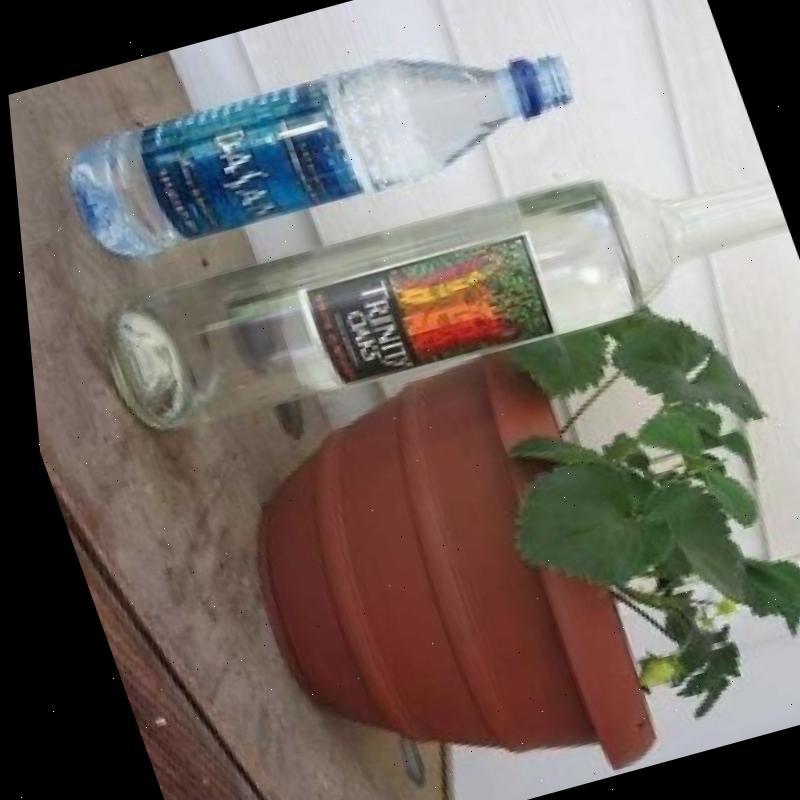botella: (44, 6, 594, 266)
